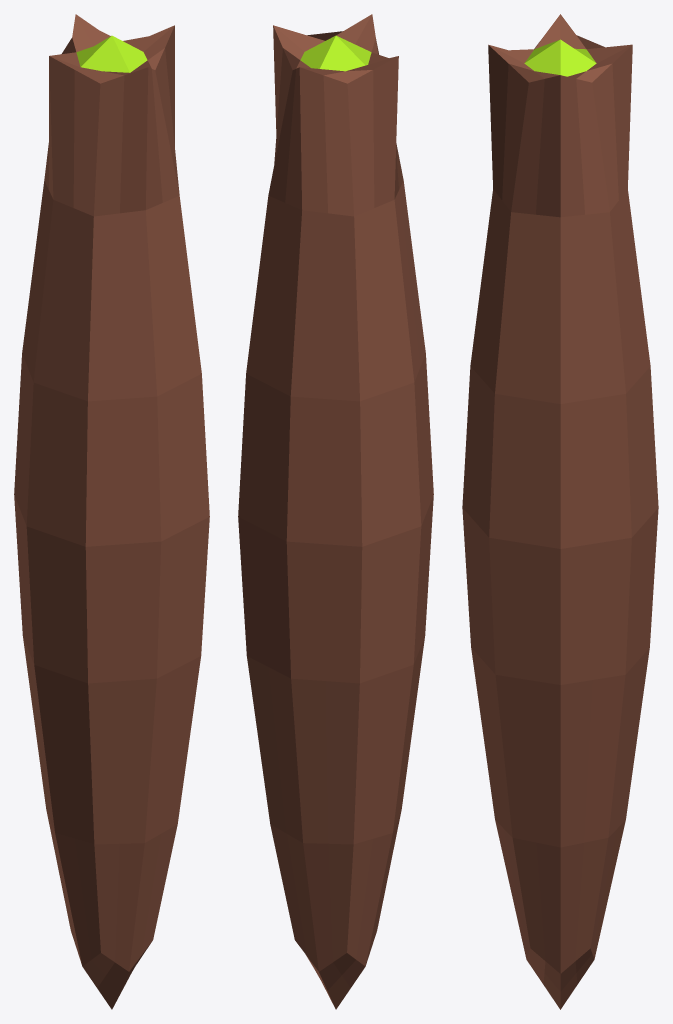
Rendered from tohum1sprout1.fbx.
The picture shows the model from 3 angles, left to right: view 1: azimuth 30°, elevation 25°; view 2: azimuth 150°, elevation 25°; view 3: azimuth 270°, elevation 25°; orthographic projection.
Parts seen in each view (by area): view 1: Cube; view 2: Cube; view 3: Cube.
Part boxes in pixels (bbox=[...]): Cube: bbox=[14, 14, 209, 1009]; Cube: bbox=[238, 14, 433, 1009]; Cube: bbox=[462, 14, 658, 1009].
Size of the model in its own units: 19.39 by 19.39 by 106.
